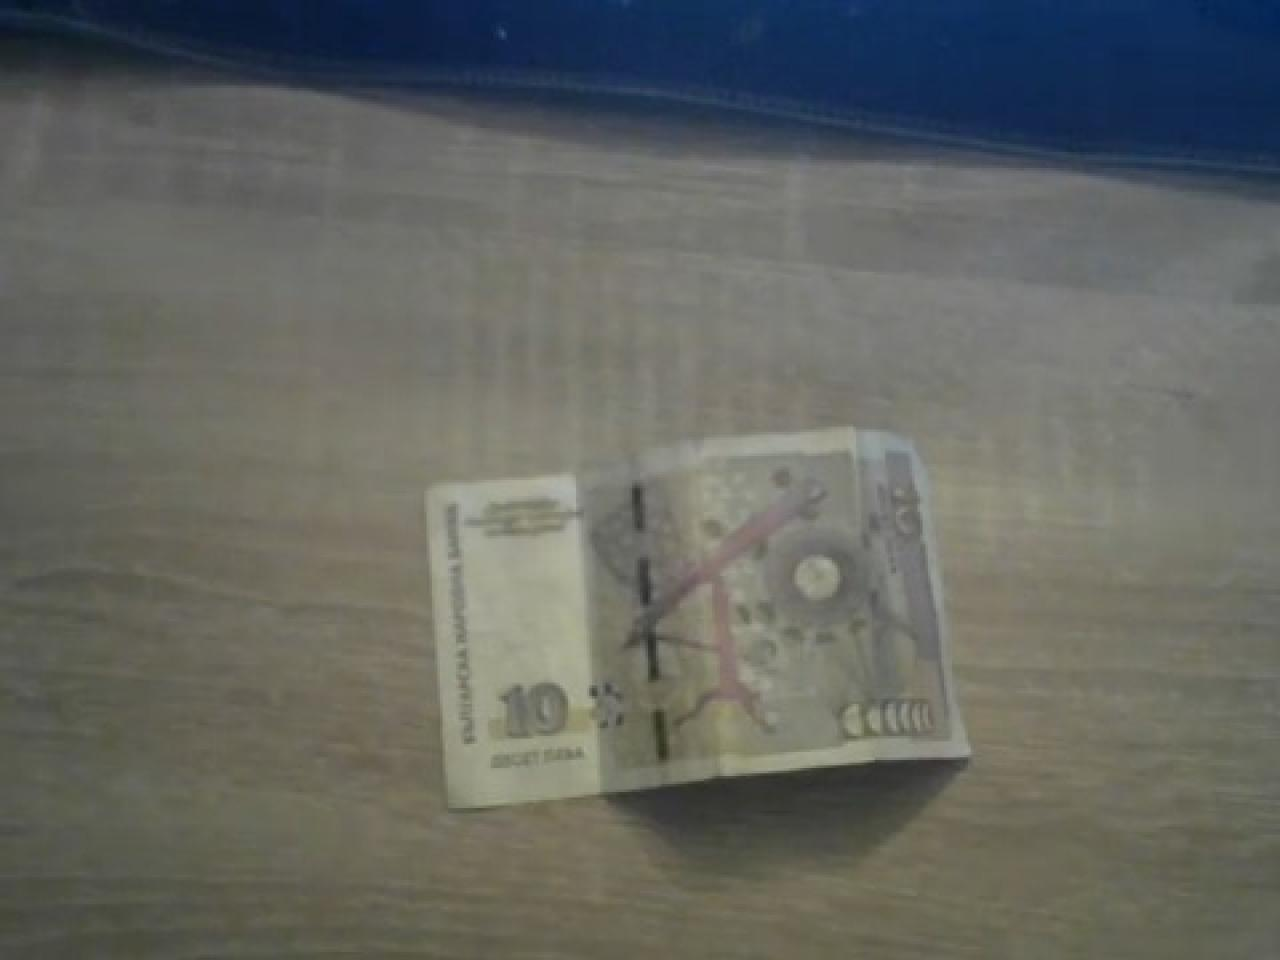10leva: (421, 432, 968, 814)
